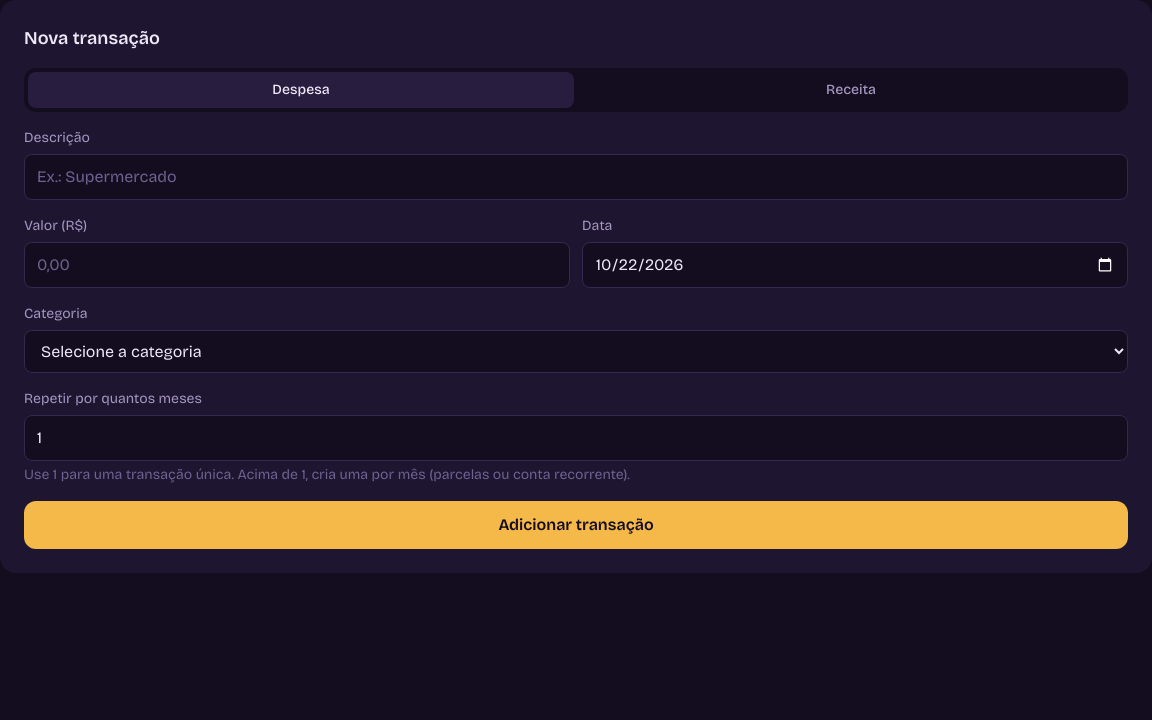
Test case: TransactionForm › mostra mensagens de erro quando os campos estão vazios
The image size is (1152, 720).
What coordinates should you click on to do the following:
click the button "Adicionar transação"
I would click on:
 (576, 525)
Its box is [24,501,1128,549].
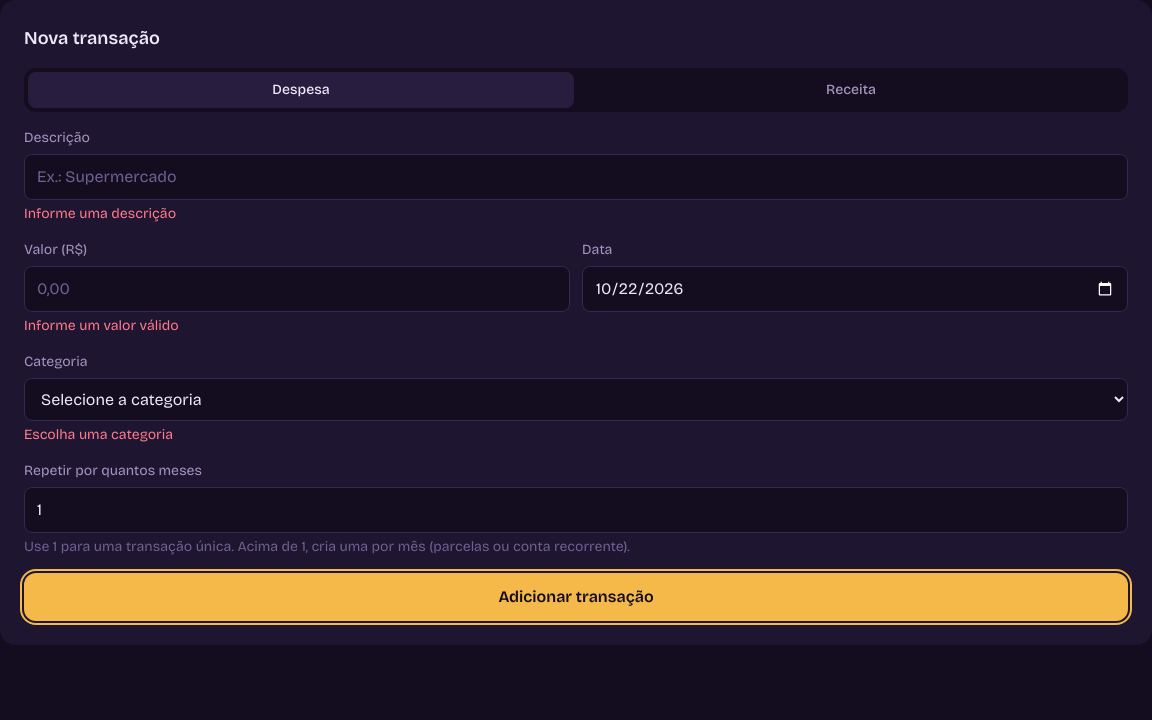
Result: the text "Informe uma descrição" is shown at [24,205,176,222]
Result: the text "Informe um valor válido" is shown at [24,317,179,334]
Result: the text "Escolha uma categoria" is shown at [24,426,173,443]
